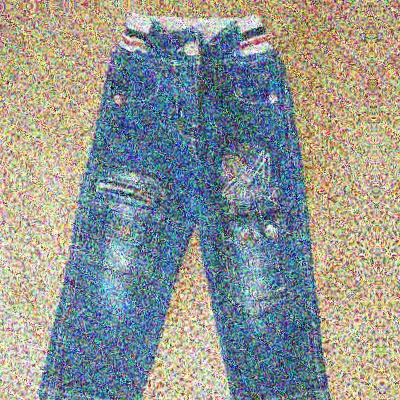Pants: (15, 7, 340, 400)
